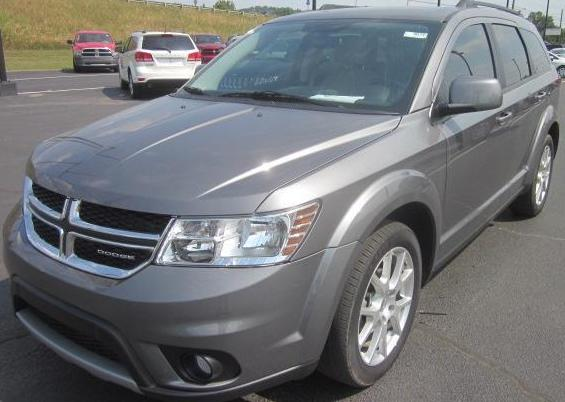front_view: (9, 168, 343, 364)
headlight: (173, 191, 316, 278)
side_glass: (438, 21, 536, 108)
